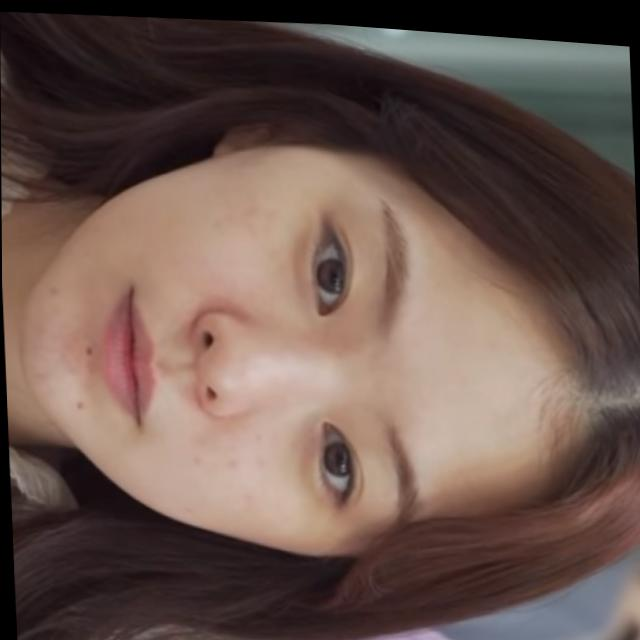face: (362, 180, 640, 521)
